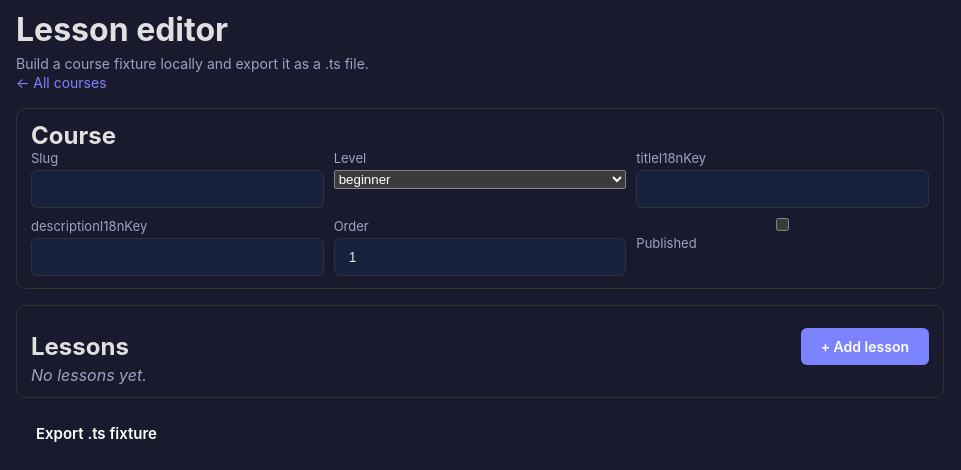
Test: <LessonEditorPage> › экспорт при валидных данных → выдаёт сообщение «Fixture exported.»
Note: Заполняем минимум: slug + titleI18nKey.
In the field with test id "editor-course-slug": (177, 189) [31,170,324,208], type "beginner"
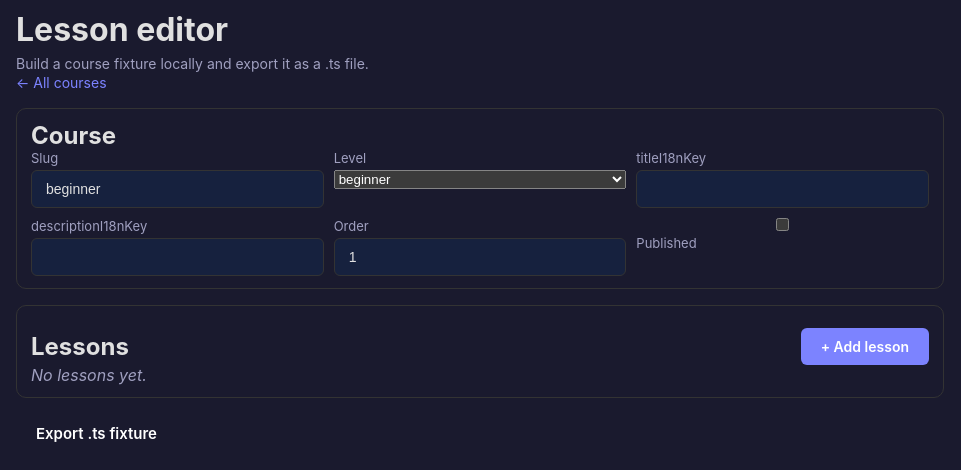
In the field with test id "editor-course-title-key": (783, 189) [636,170,929,208], type "courses.beginner.title"
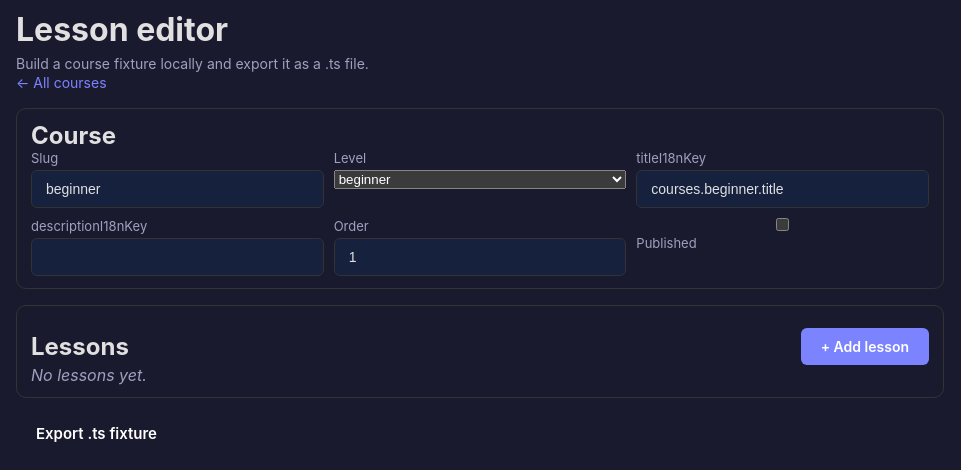
Click the button with test id "editor-export-btn": (96, 434) [16,414,177,453]
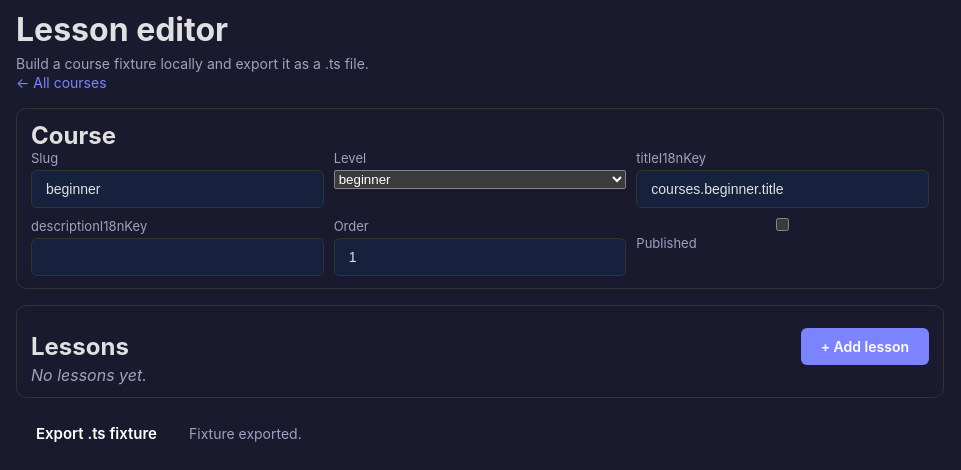
Check: the text with test id "editor-status" shows "exported", box [189,425,302,442]
